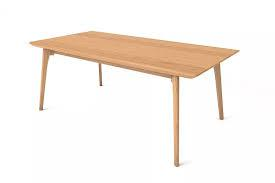desk: (19, 11, 249, 174)
